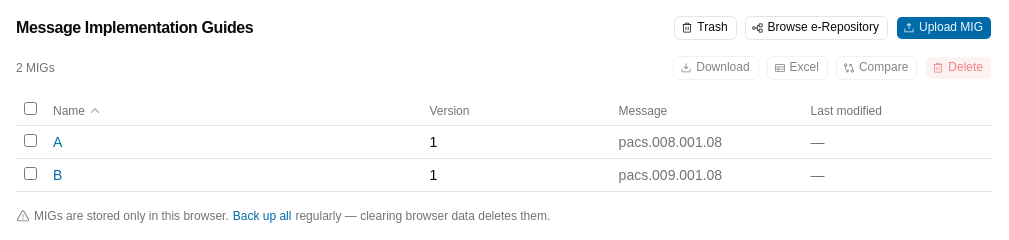
MigHome › Compare stays disabled for two MIGs of different message families
Expected: the table is shown, [16,96,992,192]
Click the checkbox named "Select A 1" at (30, 140), box [24,134,37,147]
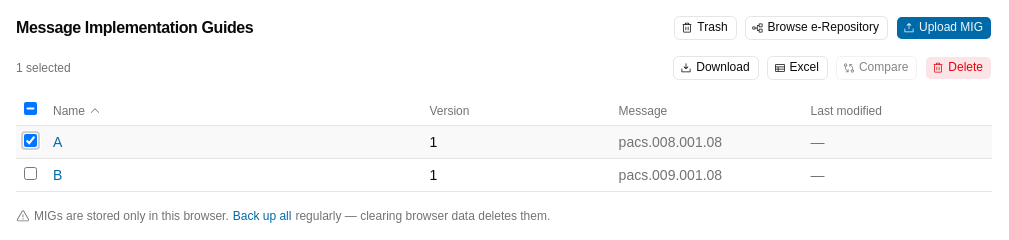
Click the checkbox named "Select B 1" at (30, 174), box [24,167,37,180]
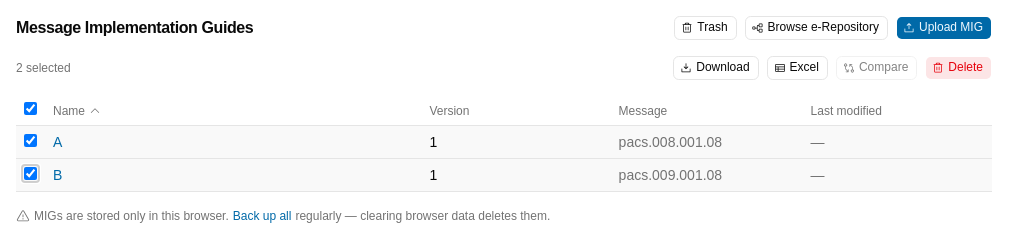
Expected: the button "Compare" is disabled, [836,56,917,80]
Expected: the text "2 selected" is shown, [16,60,71,76]
